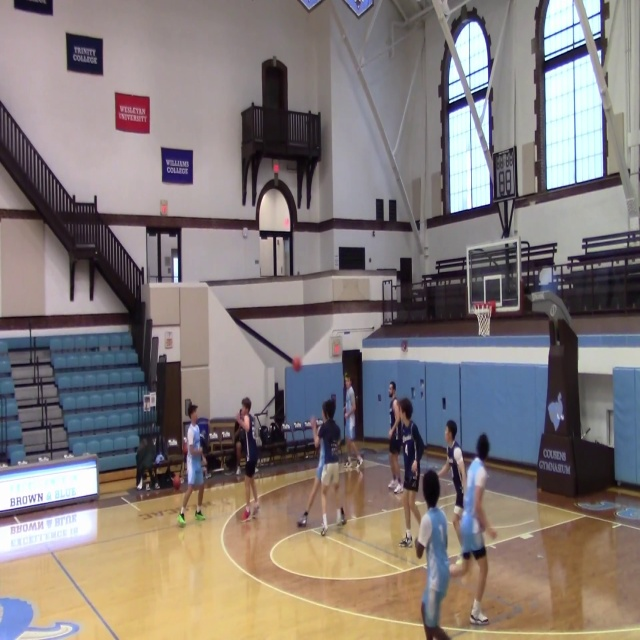Basketball: (292, 356, 301, 372), (172, 475, 181, 489), (242, 507, 250, 519)
